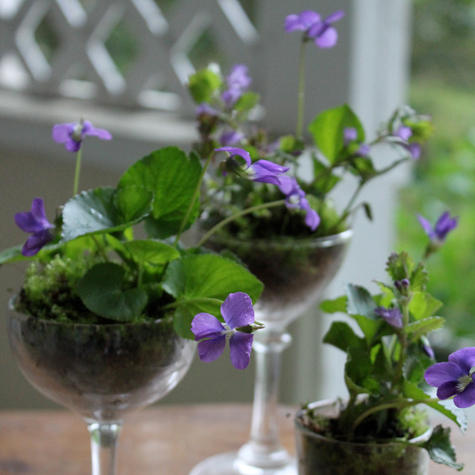violet: (181, 290, 271, 381), (208, 148, 301, 207), (54, 113, 118, 167), (426, 345, 475, 408), (11, 204, 68, 250)
